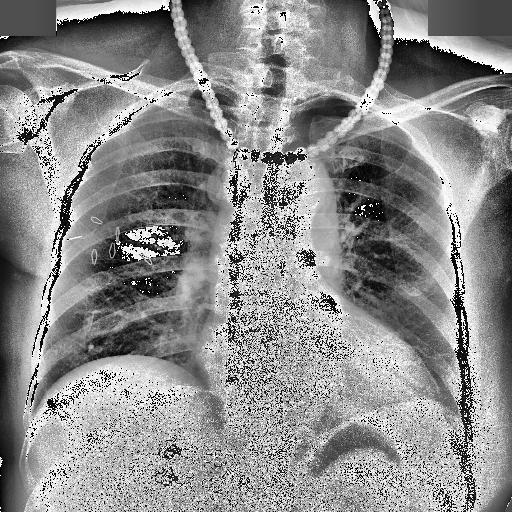0- Aortic enlargement: (268, 154, 336, 244), (262, 151, 334, 216), (278, 151, 337, 221)
3- Cardiomegaly: (196, 328, 436, 436), (192, 324, 440, 412), (195, 332, 438, 410)
9- Other lesion: (64, 216, 152, 268)
